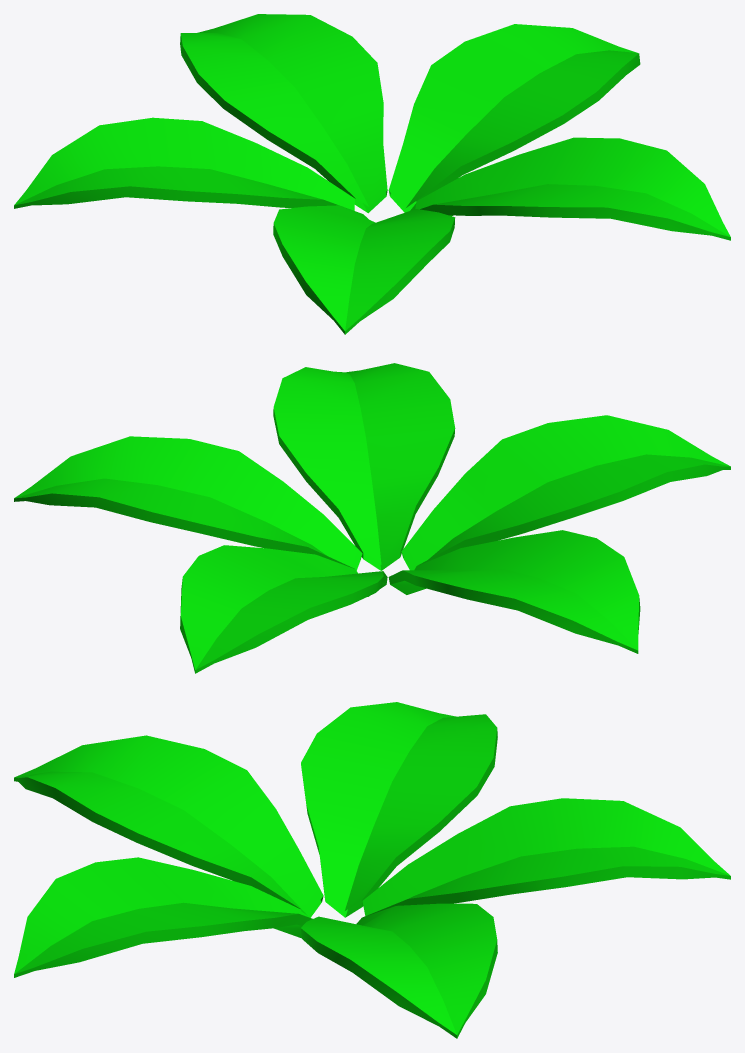
File: m6bo_leaves.fbx
3 renders of one model, top to bottom at view 1: azimuth 30°, elevation 25°; view 2: azimuth 150°, elevation 25°; view 3: azimuth 270°, elevation 25°, orthographic. The views are drawn at different scales.
Visible parts, largest first — view 1: Leaves_Low; view 2: Leaves_Low; view 3: Leaves_Low.
Part boxes in pixels (<box>): Leaves_Low: <box>14,14,730,334</box>; Leaves_Low: <box>14,363,730,673</box>; Leaves_Low: <box>14,702,730,1038</box>.
Bounding box in the file's own units: 505 × 72.48 × 480.
